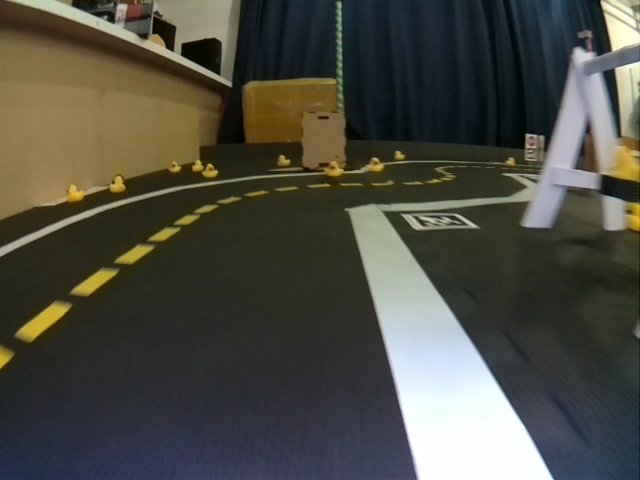Duckie: (324, 162, 343, 177), (366, 159, 384, 171), (111, 176, 124, 192), (203, 165, 219, 177), (67, 188, 82, 199), (276, 155, 291, 166), (394, 150, 405, 160), (170, 161, 180, 171), (193, 161, 203, 171)
QR code: (401, 213, 478, 230)
